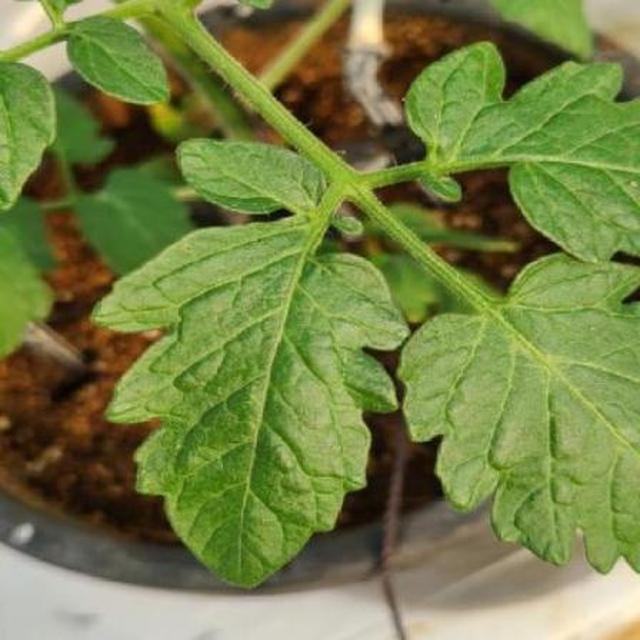Healthy Leaf: (149, 88, 640, 593)
